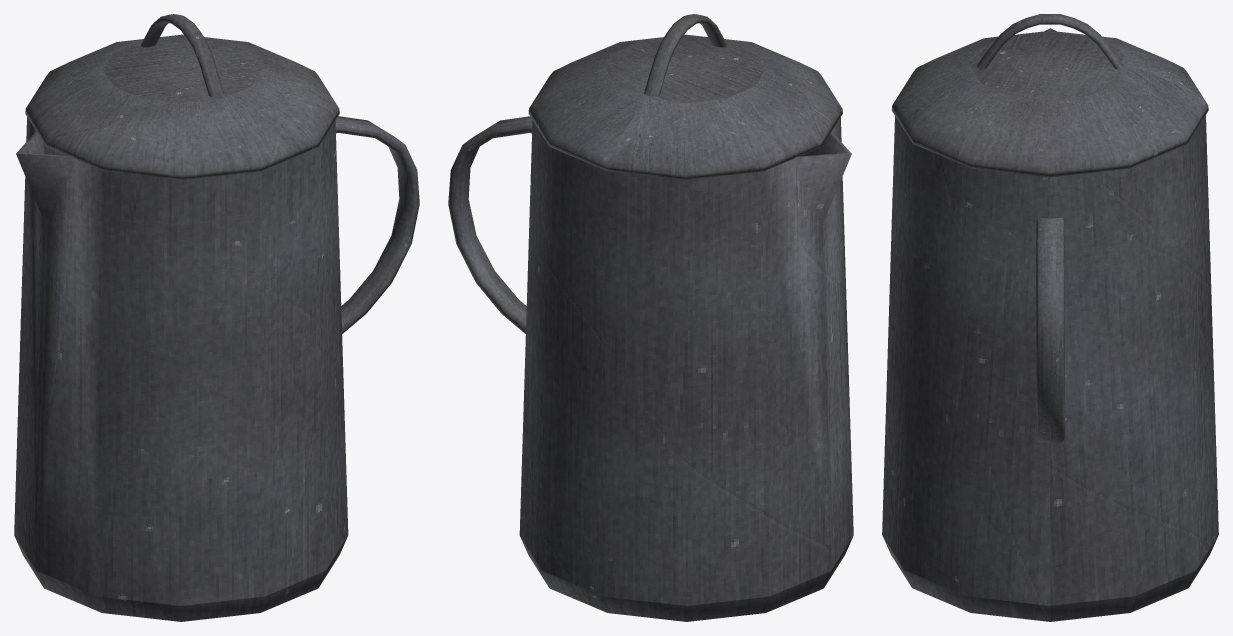
The model's file is CoffeePot.glb.
3 renders of one model, left to right at view 1: azimuth 30°, elevation 25°; view 2: azimuth 150°, elevation 25°; view 3: azimuth 270°, elevation 25°, orthographic.
Visible parts, largest first — view 1: CoffeePot, Lid; view 2: CoffeePot, Lid; view 3: CoffeePot, Lid.
Part boxes in pixels (x1=…): CoffeePot: x1=14, y1=116, x2=419, y2=621; Lid: x1=25, y1=14, x2=339, y2=179; CoffeePot: x1=448, y1=116, x2=853, y2=621; Lid: x1=528, y1=14, x2=842, y2=179; CoffeePot: x1=882, y1=28, x2=1218, y2=621; Lid: x1=891, y1=14, x2=1208, y2=177.
Size of the model in its own units: 0.1658 by 0.2162 by 0.1205.
Materials: 1 (1 with a texture image).
